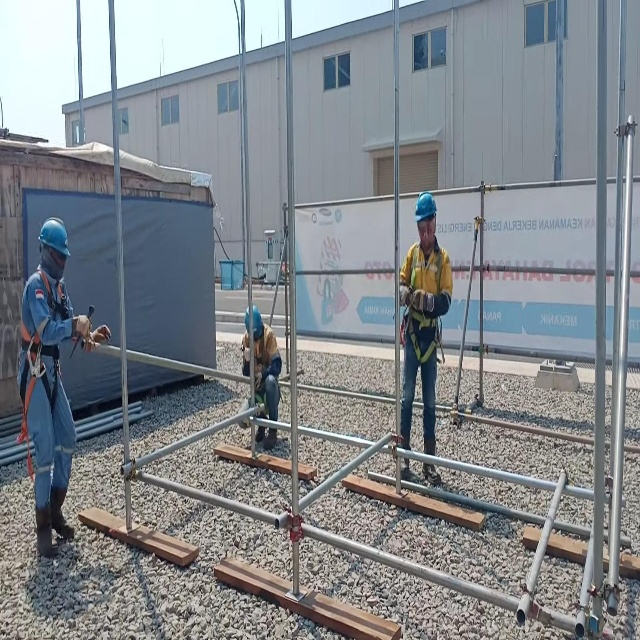Arnes_seguridad: (19, 264, 61, 478), (400, 237, 443, 365), (247, 334, 270, 425)
